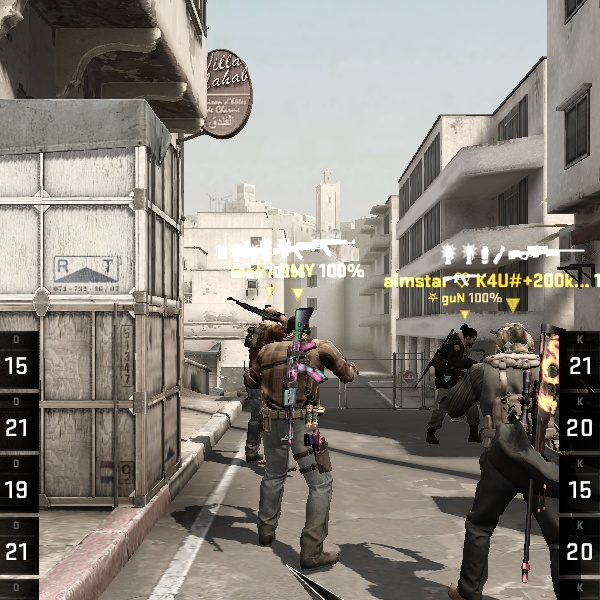t_body: (220, 295, 363, 579), (420, 315, 499, 448)
t_head: (486, 316, 545, 376), (256, 302, 302, 342), (447, 316, 483, 352)
